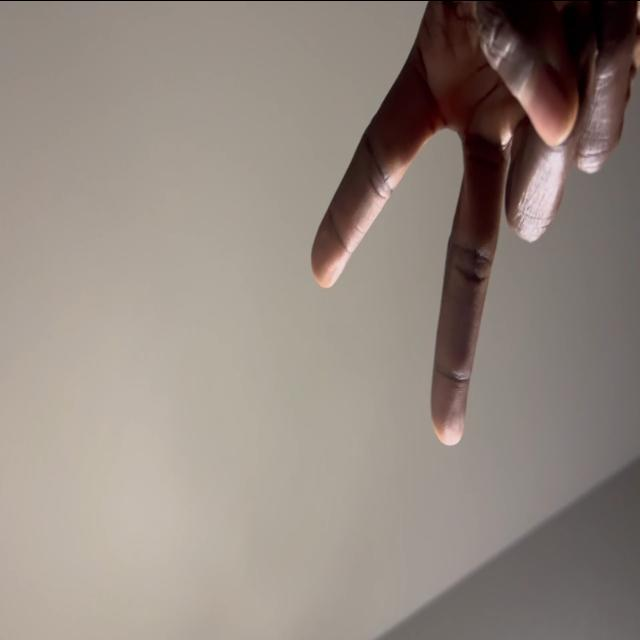Scissors: (312, 0, 640, 446)
